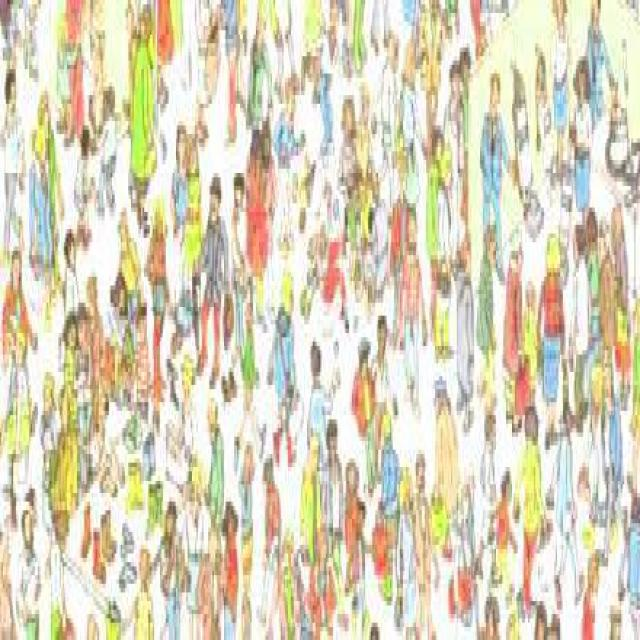waldo: (129, 303, 147, 342)
